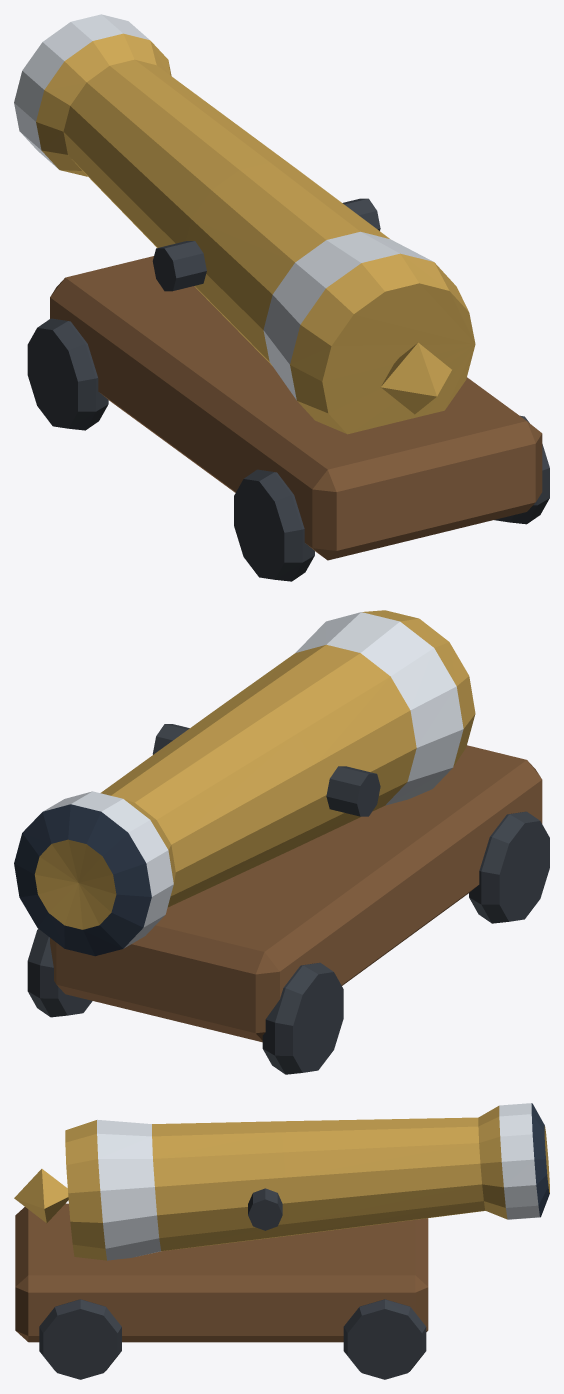
File: DeckCannon.obj
The picture shows the model from 3 angles, top to bottom: view 1: azimuth 30°, elevation 25°; view 2: azimuth 150°, elevation 25°; view 3: azimuth 270°, elevation 25°; orthographic projection. The views are drawn at different scales.
Bounding box in the file's own units: 1.04 × 1.15 × 2.47.
